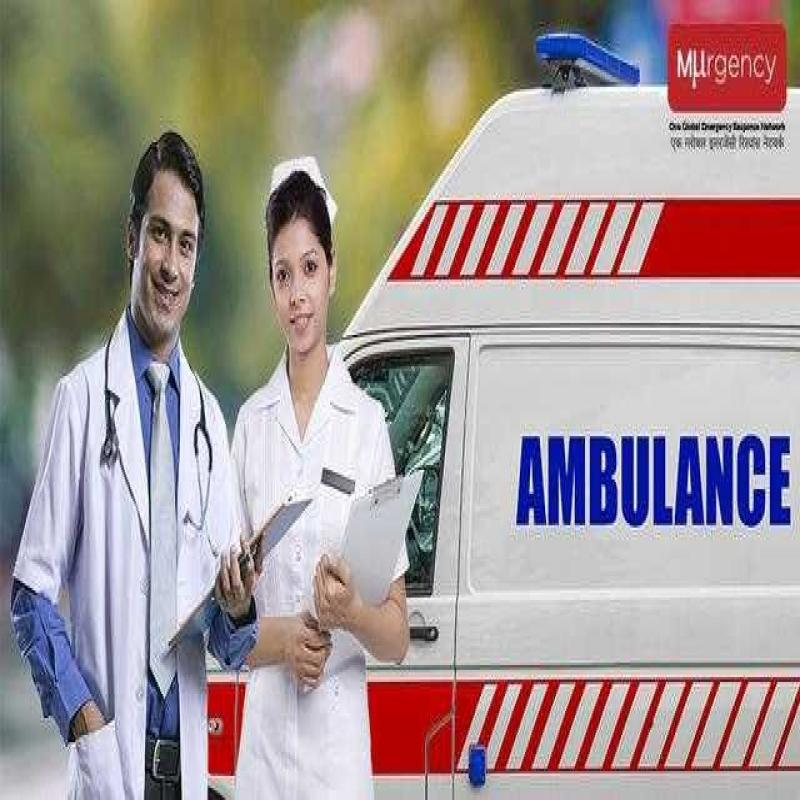AmbulanceSiren: (533, 14, 645, 98)
